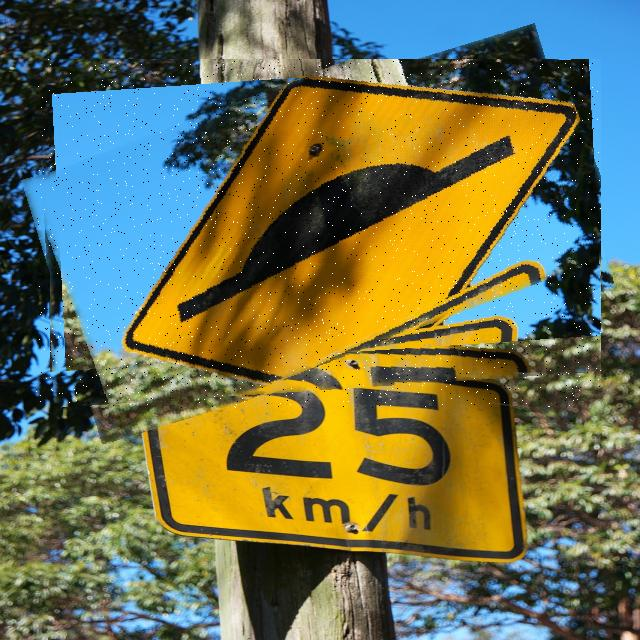hump: (36, 59, 601, 408)
